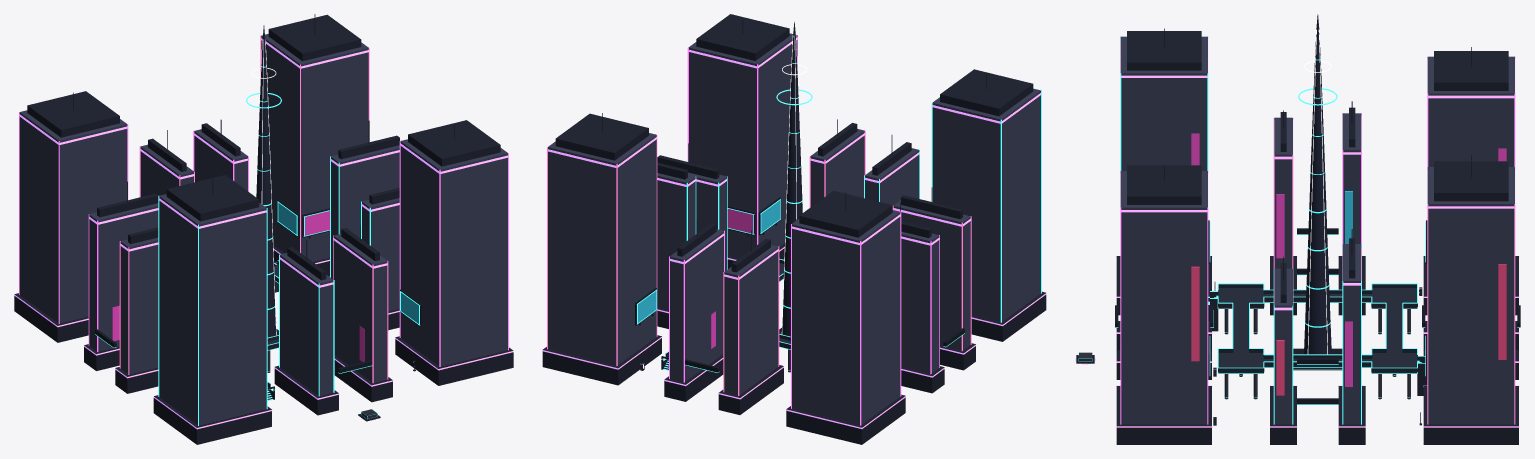
3 views of the same model, side by side, from view 1: azimuth 30°, elevation 25°; view 2: azimuth 150°, elevation 25°; view 3: azimuth 270°, elevation 25° (orthographic). The views are drawn at different scales.
Visible parts, largest first — view 1: district_city_cero.lod0; view 2: district_city_cero.lod0; view 3: district_city_cero.lod0.
Boxes of the visible parts, x1,y1,x2,y2 form: district_city_cero.lod0: (14, 14, 513, 444); district_city_cero.lod0: (542, 14, 1046, 444); district_city_cero.lod0: (1075, 14, 1520, 444).
Bounding box in the file's own units: 97.84 × 92.01 × 107.
